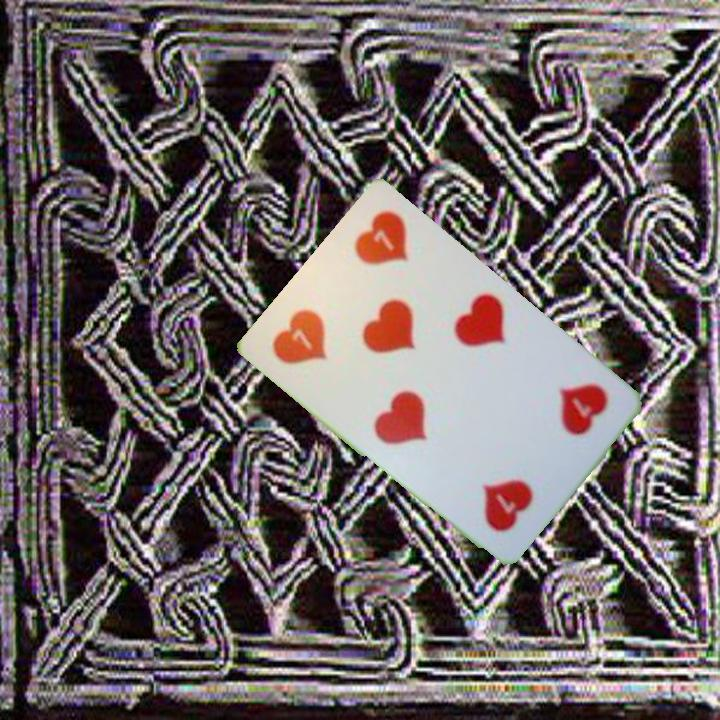h_7.png: (498, 350, 626, 480), (257, 271, 385, 400)
